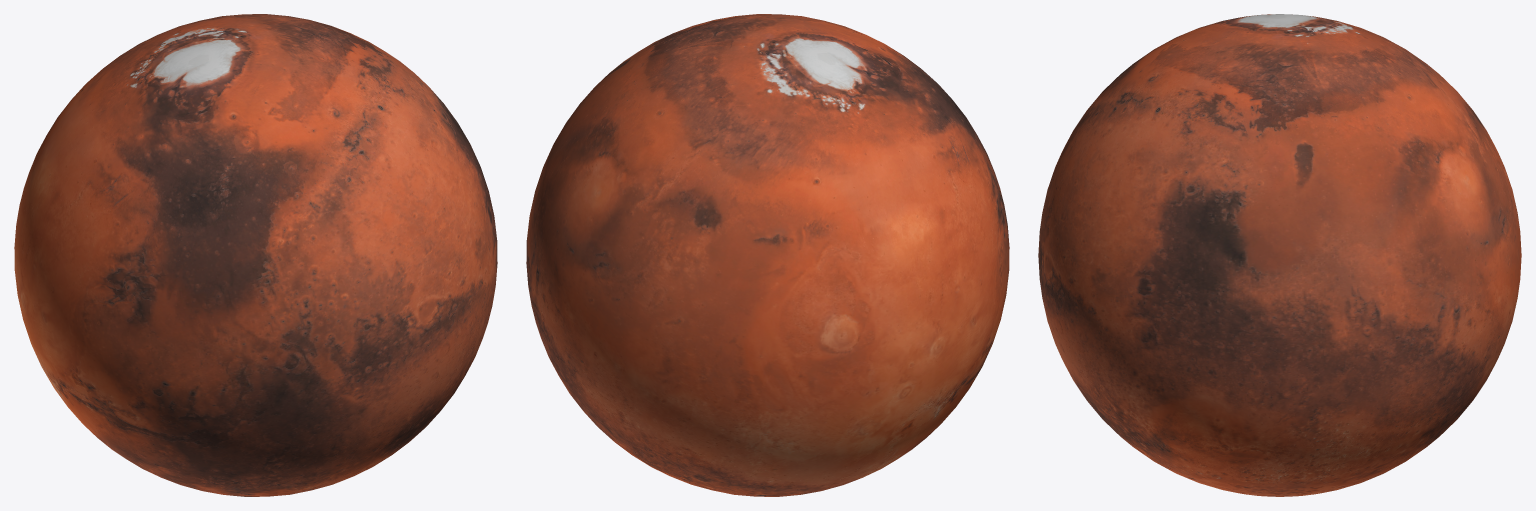
3 renders of one model, left to right at view 1: azimuth 30°, elevation 25°; view 2: azimuth 150°, elevation 25°; view 3: azimuth 270°, elevation 25°, orthographic.
Parts seen in each view (by area): view 1: mars; view 2: mars; view 3: mars.
Boxes of the visible parts, x1,y1,x2,y2 form: mars: (14, 14, 497, 496); mars: (526, 14, 1009, 496); mars: (1038, 14, 1521, 496).
Bounding box in the file's own units: 99.86 × 99.95 × 100.
Materials: 1 (1 with a texture image).
